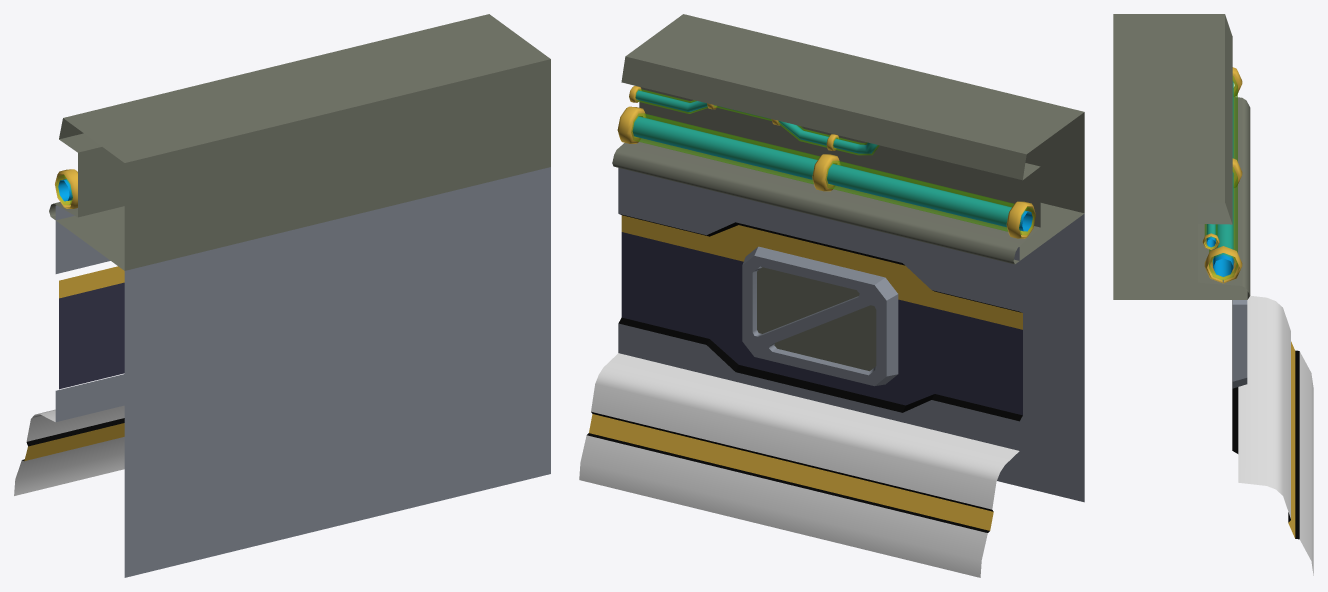
File: Wall_withdetails.fbx
The picture shows the model from 3 angles, left to right: view 1: azimuth 30°, elevation 25°; view 2: azimuth 150°, elevation 25°; view 3: azimuth 270°, elevation 25°; orthographic projection. The views are drawn at different scales.
Visible parts, largest first — view 1: Wall_withdetails_; view 2: Wall_withdetails_; view 3: Wall_withdetails_.
Part boxes in pixels (x1,y1,x2,y2): Wall_withdetails_: [14, 14, 550, 577]; Wall_withdetails_: [579, 14, 1084, 577]; Wall_withdetails_: [1113, 14, 1313, 575].
Bounding box in the file's own units: 733 × 682 × 330.
